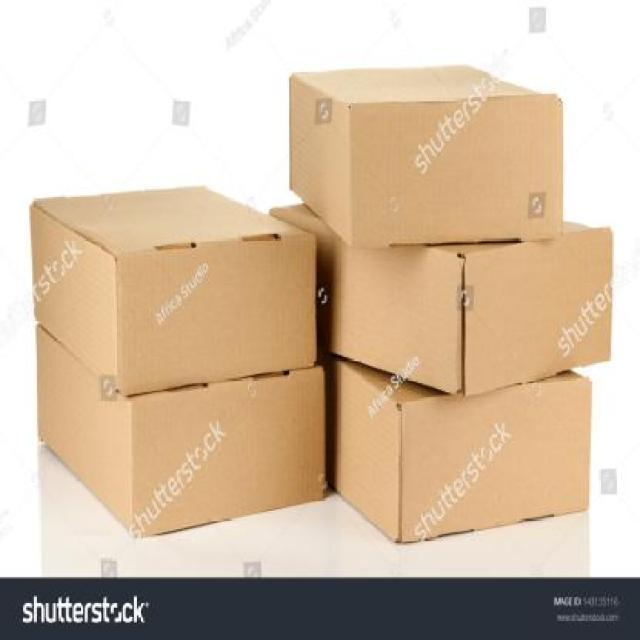BoxFace: (133, 365, 327, 538), (114, 233, 317, 394), (347, 96, 562, 244), (399, 378, 590, 540), (462, 226, 612, 391)
